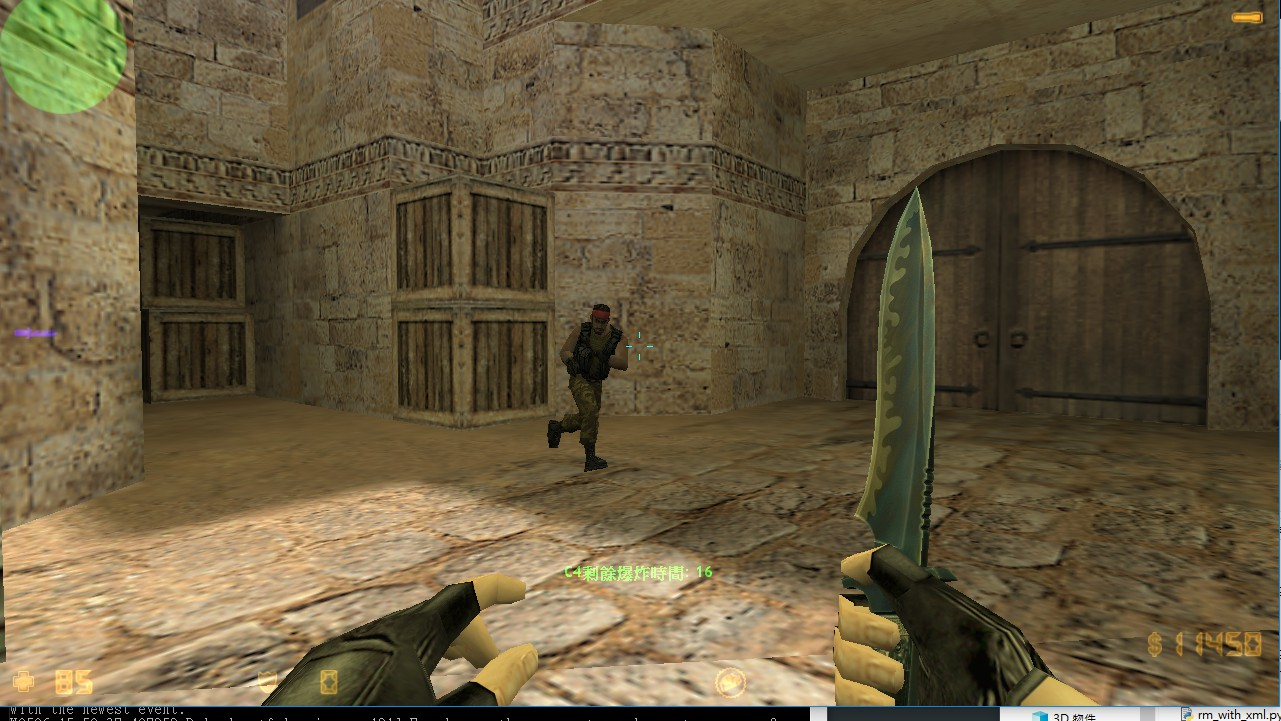person: (542, 292, 625, 470)
